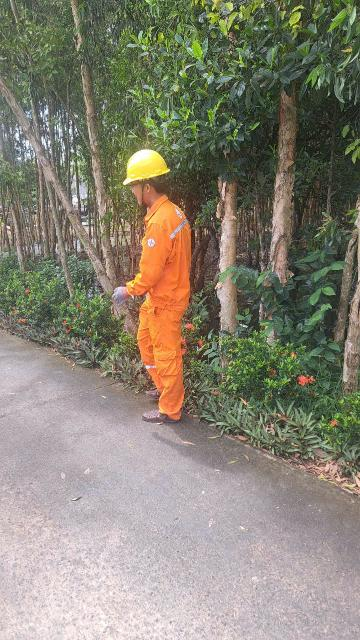gloves: (108, 282, 141, 310)
helmet: (118, 141, 174, 194)
shoes: (136, 403, 189, 428), (144, 383, 182, 402)
